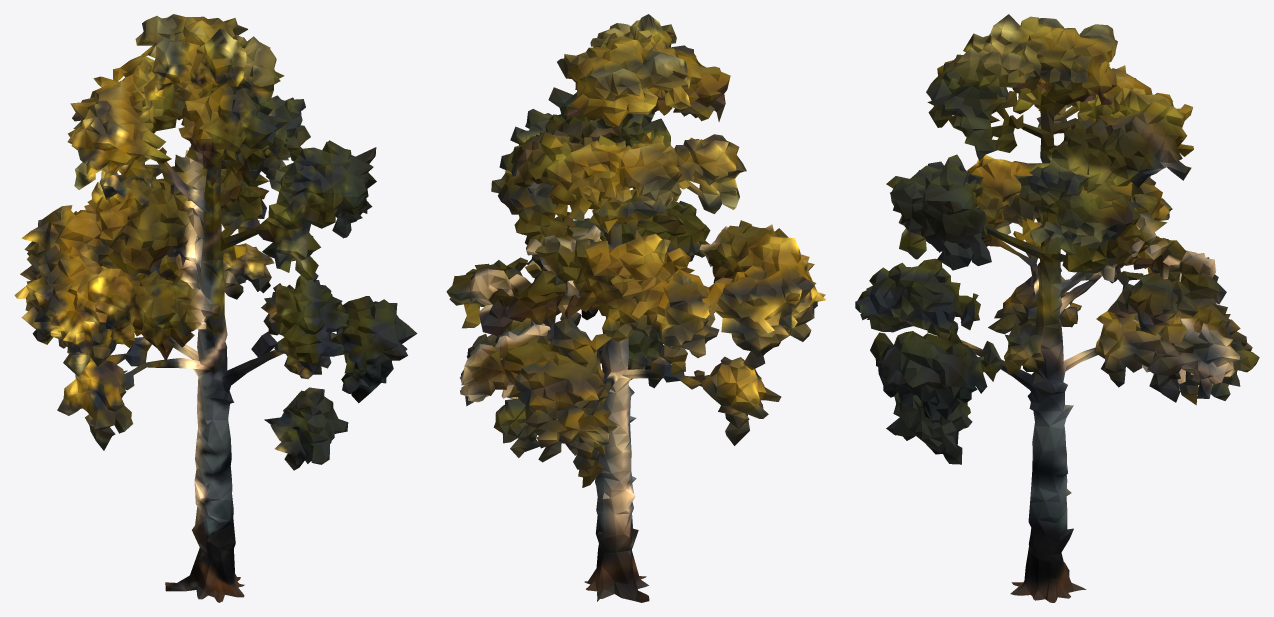
File: birch.glb
3 views of the same model, side by side, from view 1: azimuth 30°, elevation 25°; view 2: azimuth 150°, elevation 25°; view 3: azimuth 270°, elevation 25° (orthographic). The views are drawn at different scales.
Parts seen in each view (by area): view 1: birch; view 2: birch; view 3: birch.
Boxes of the visible parts, x1=… form: birch: x1=14, y1=14, x2=417, y2=602; birch: x1=446, y1=14, x2=826, y2=602; birch: x1=855, y1=14, x2=1259, y2=602.
Bounding box in the file's own units: 3.82 × 6.5 × 4.18.
1 material, 1 textured.
